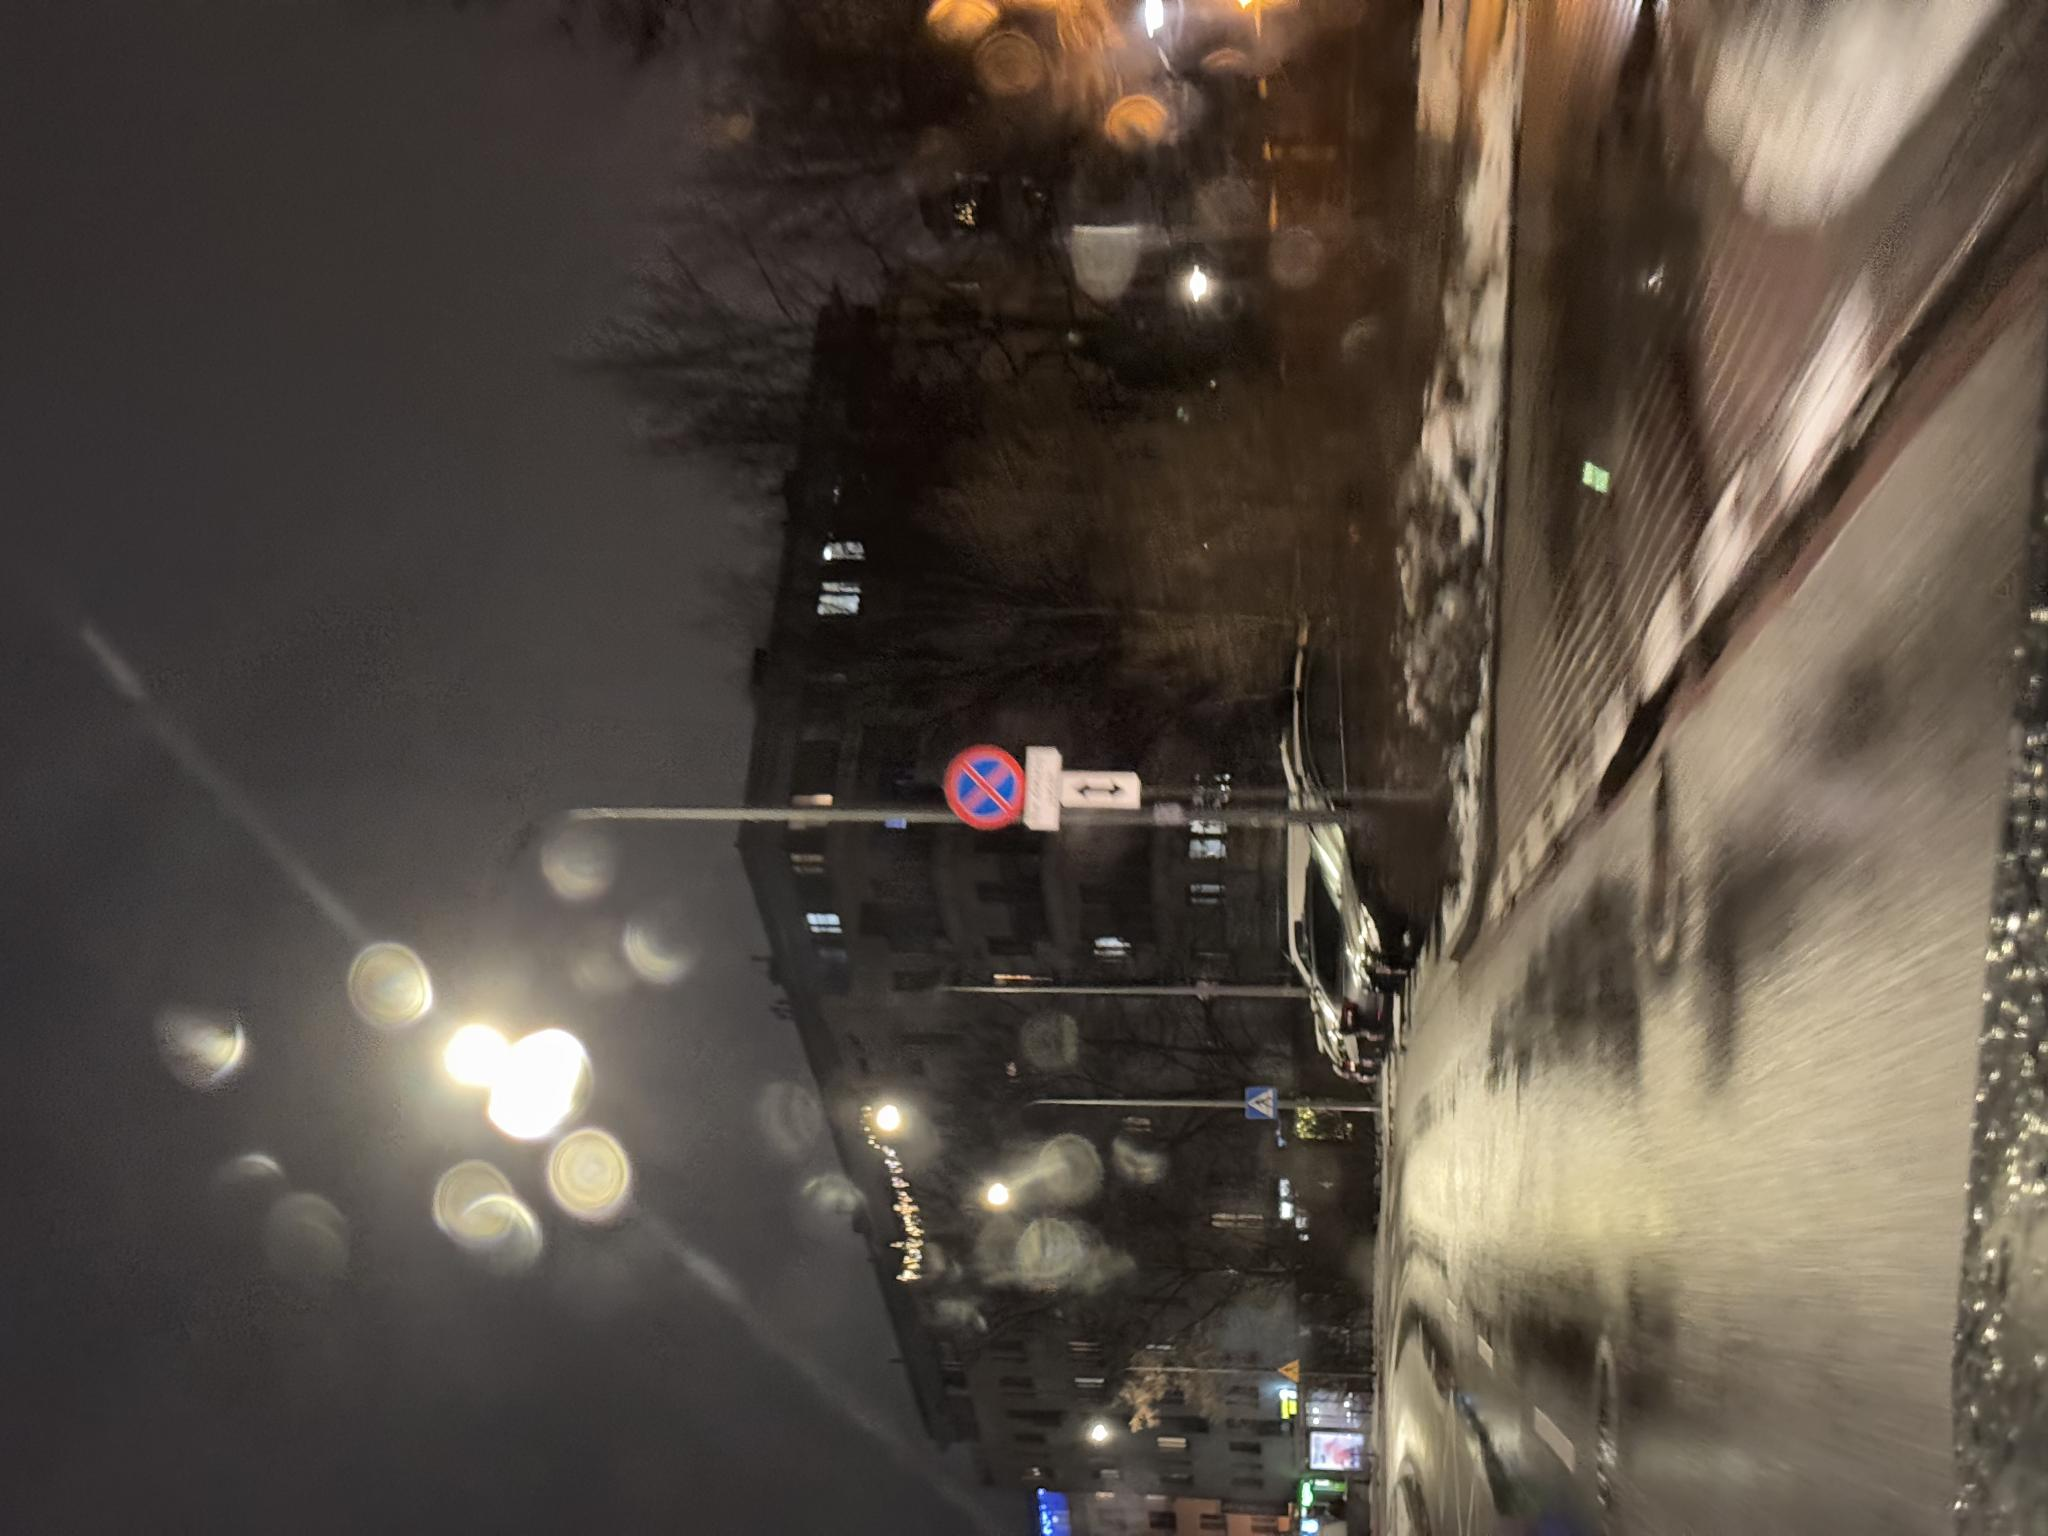information: (416, 1244, 450, 1278)
other: (728, 1060, 766, 1144), (704, 1025, 788, 1061)
prohibitory: (707, 942, 791, 1026)
warning: (154, 1278, 178, 1300)
